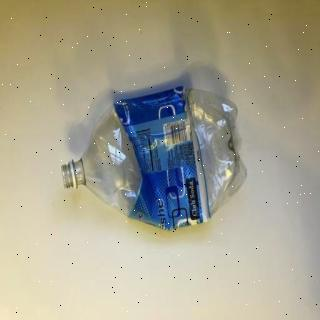Plastic-bottle: (61, 84, 252, 235)
